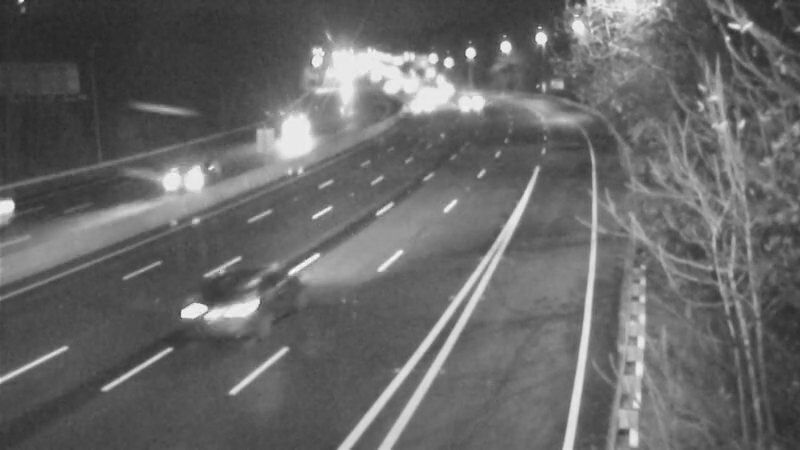vehicle: (168, 259, 278, 369), (141, 143, 221, 223), (1, 168, 66, 248), (364, 58, 414, 108), (402, 69, 452, 119), (441, 78, 491, 128), (275, 106, 325, 156)
